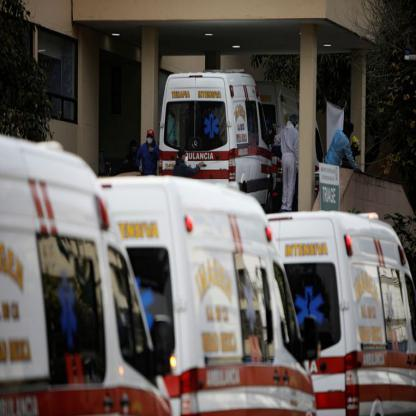Ambulance - v1 Ambulance last generate: (104, 168, 320, 416), (0, 133, 171, 415), (277, 198, 415, 415), (161, 67, 277, 200)
